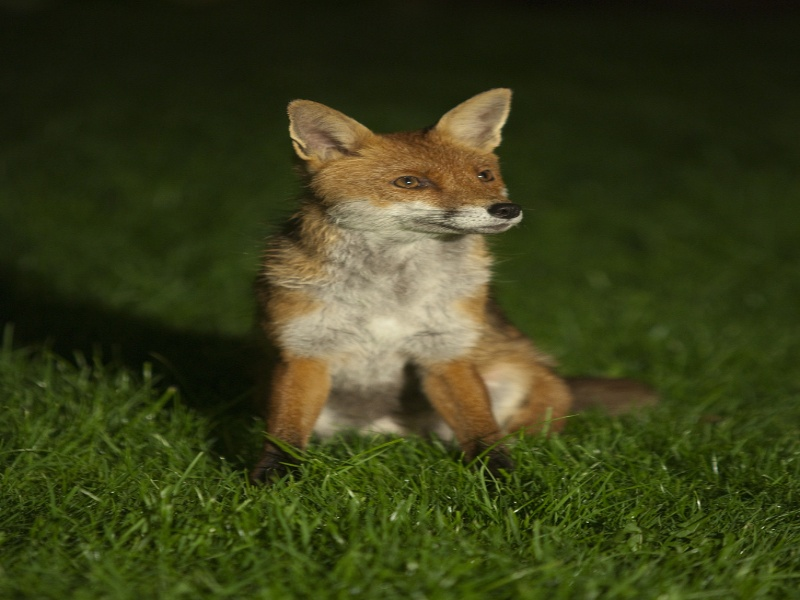fox: (239, 78, 679, 489)
